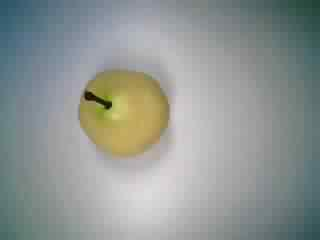pear: (68, 61, 173, 164)
